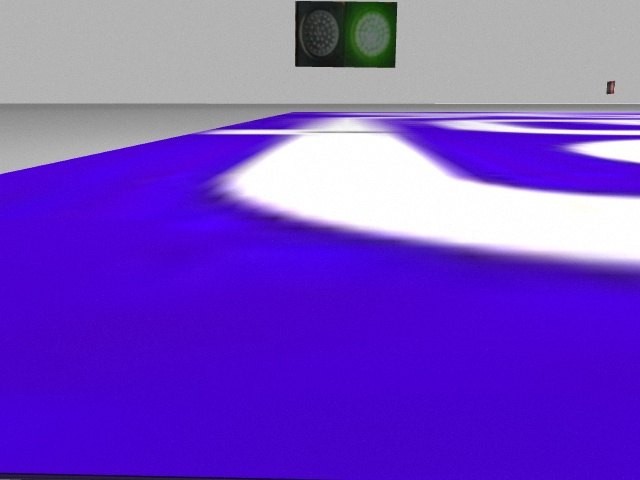green: (346, 1, 396, 68)
